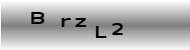2: (110, 22, 123, 35)
B: (29, 11, 44, 25)
L: (94, 24, 107, 39)
r: (59, 17, 72, 27)
z: (74, 17, 86, 27)
